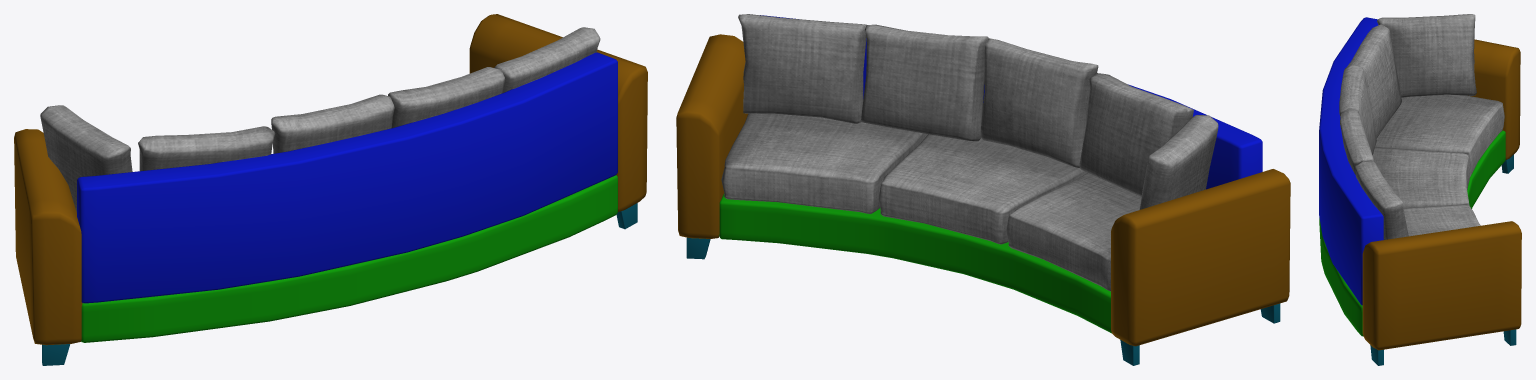
File: Sofa 5.FBX
The picture shows the model from 3 angles, left to right: view 1: azimuth 30°, elevation 25°; view 2: azimuth 150°, elevation 25°; view 3: azimuth 270°, elevation 25°; orthographic projection. The views are drawn at different scales.
Visible parts, largest first — view 1: Sofa 5; view 2: Sofa 5; view 3: Sofa 5.
Boxes of the visible parts, box(x1,y1,x2,y2) form: Sofa 5: box(14, 14, 647, 365); Sofa 5: box(676, 14, 1290, 365); Sofa 5: box(1319, 14, 1521, 365).
Bounding box in the file's own units: 3.82 × 1.42 × 1.23.
